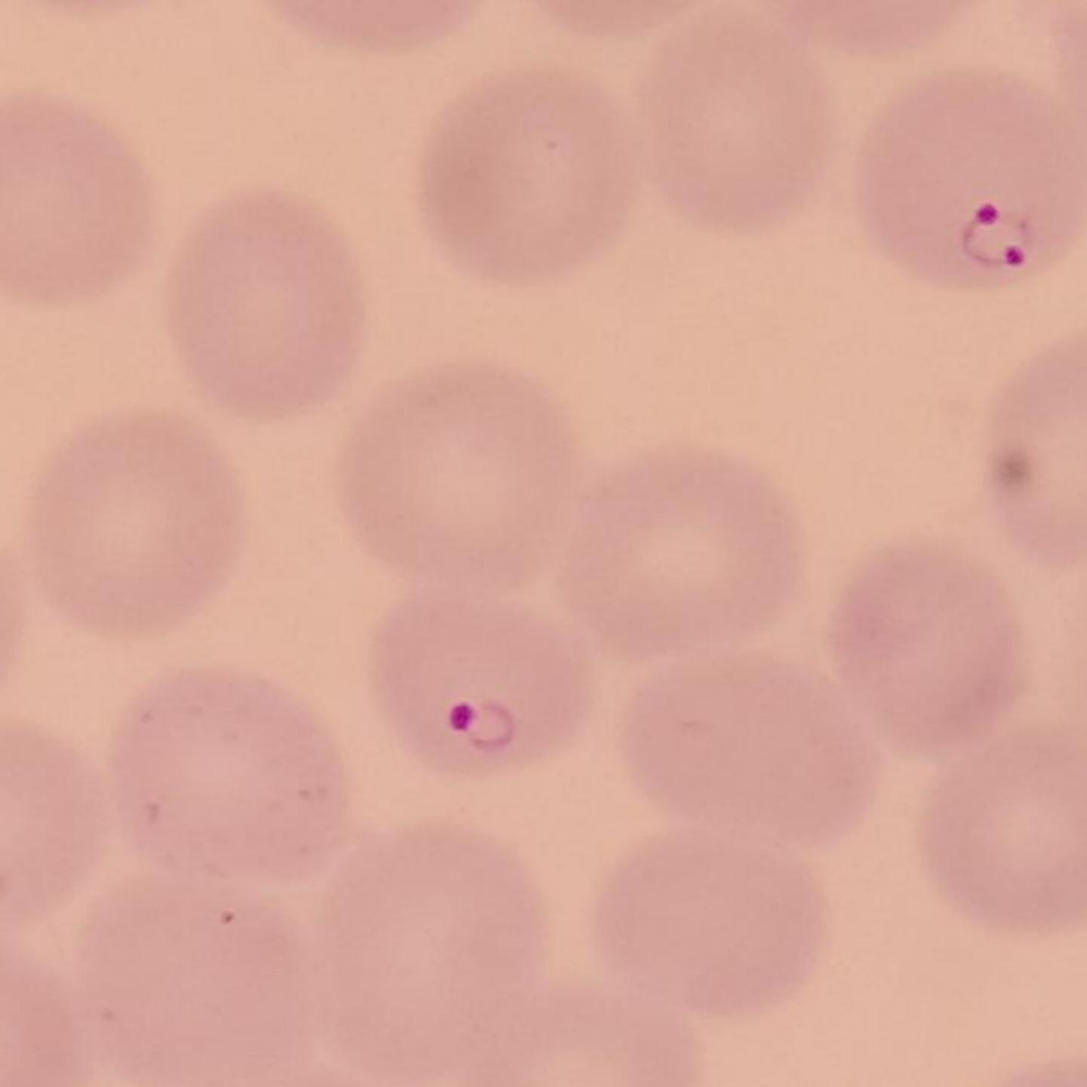Infected: (860, 66, 1087, 284), (372, 587, 587, 772)
Uninfected: (319, 826, 552, 1087), (106, 665, 349, 882), (344, 370, 580, 589), (80, 876, 317, 1087), (568, 456, 805, 656), (614, 652, 873, 834), (417, 64, 624, 284), (30, 421, 235, 639), (636, 21, 835, 230), (166, 199, 360, 413), (601, 831, 820, 1017), (830, 546, 1028, 750)
